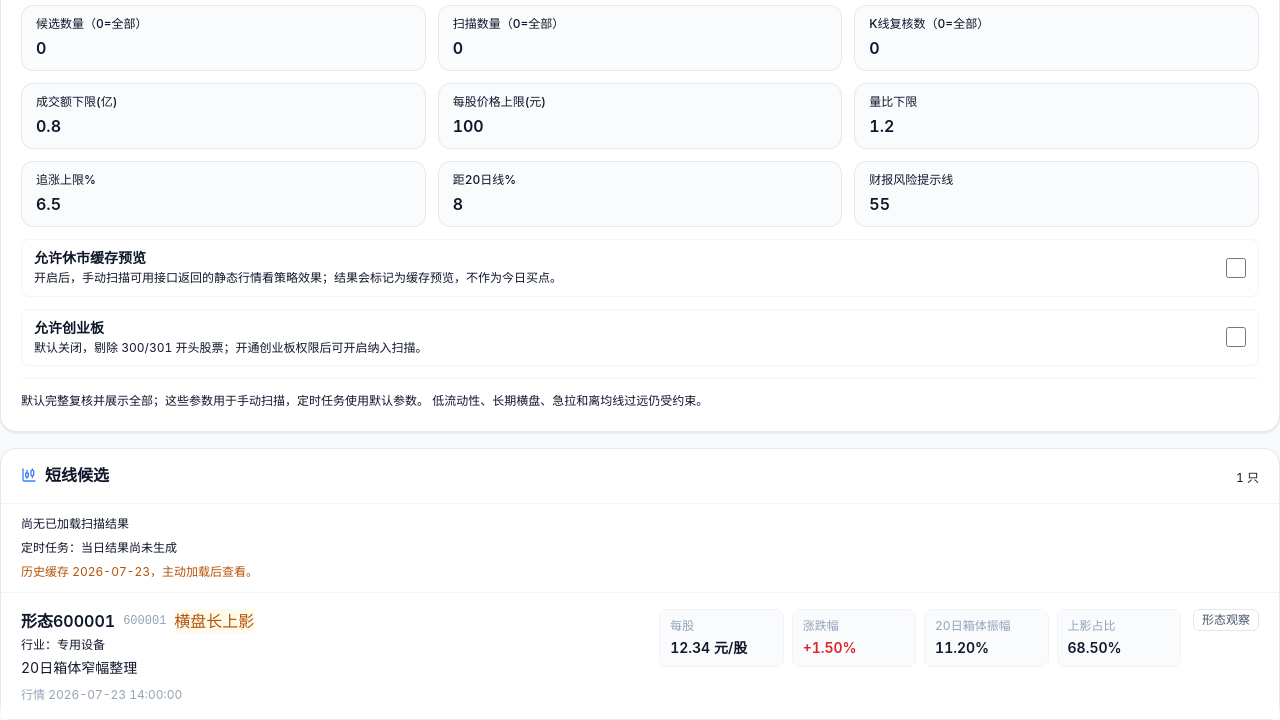
Test: ShortTermPage manual scan flow › shows saved upper-shadow candidates in the unified list with absent right-side report
(page scrolled)
Click the button. click: (640, 656)
box: [1,592,1279,719]
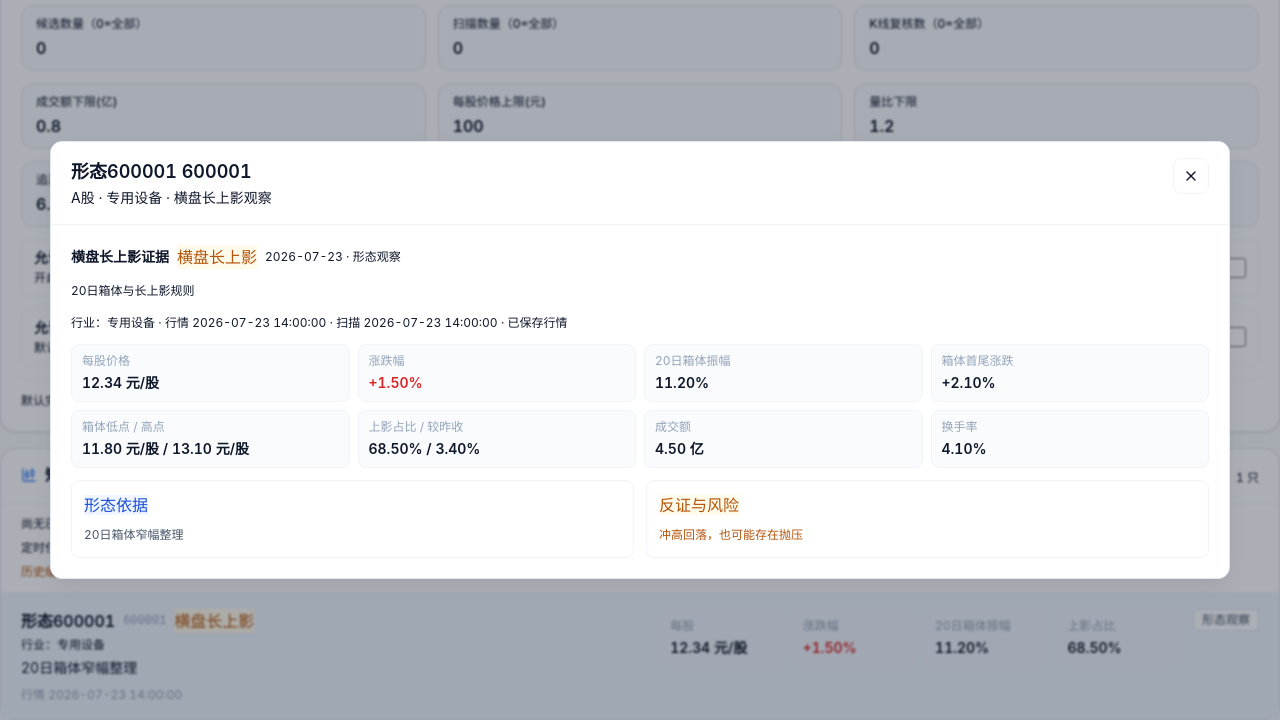
Result: the dialog shows "20日箱体" at [71,283,195,298]
Result: the dialog shows "68.50%" at [368,440,480,457]
Result: the dialog shows "2026-07-23 14:00:00" at [192,315,326,330]
